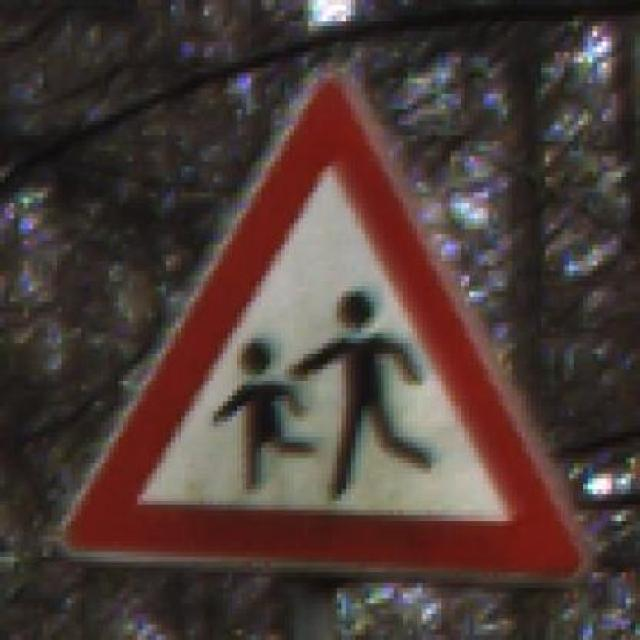Beware of children: (38, 57, 598, 588)
